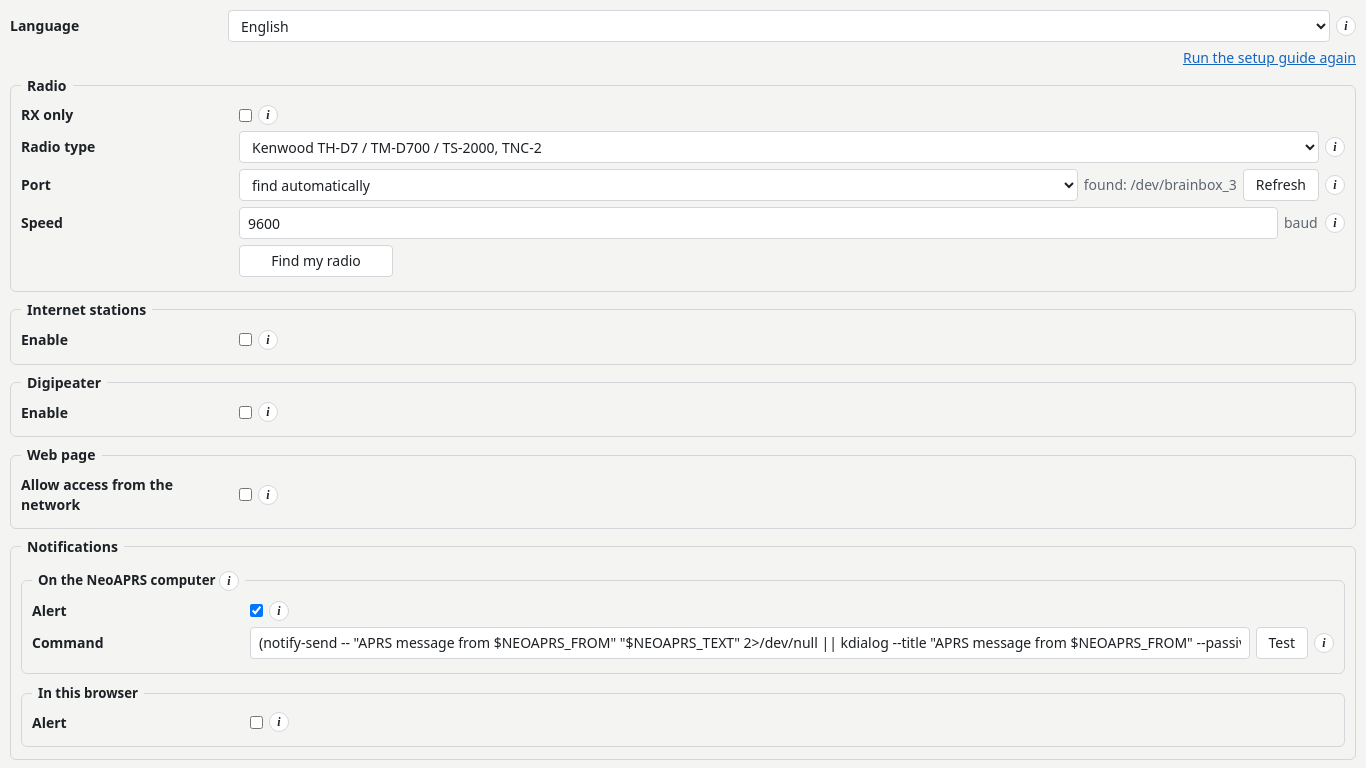
it: the (i) of the Settings tab › explains the two alerts under the heading of the NeoAPRS computer: its own command, and the browser's sound and pop-up
The width and height of the screenshot is (1366, 768).
Click the button with class "info-toggle" next to "On the NeoAPRS computer" at [229, 581], box [219,571,239,591]
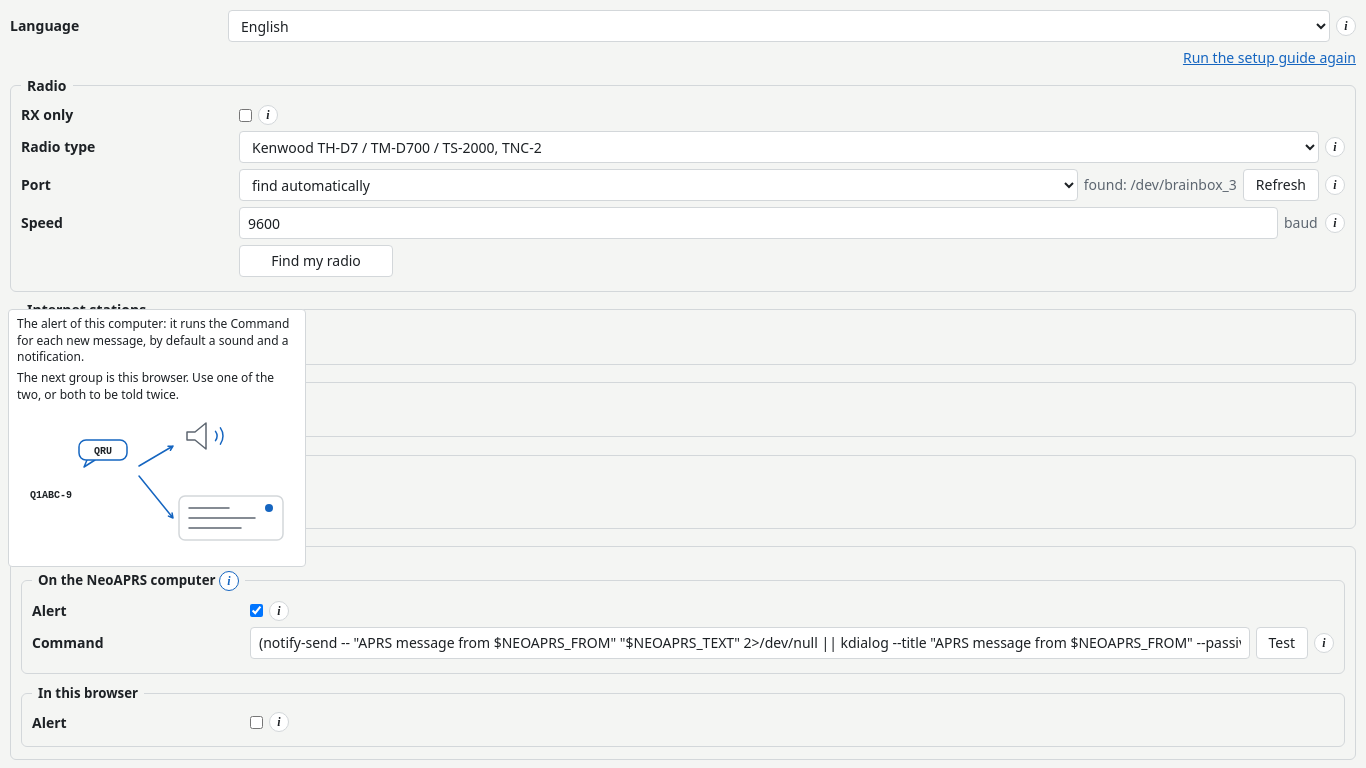
Expected: the element with class "info-text" shows "next group is this browser", [17,369,274,403]
